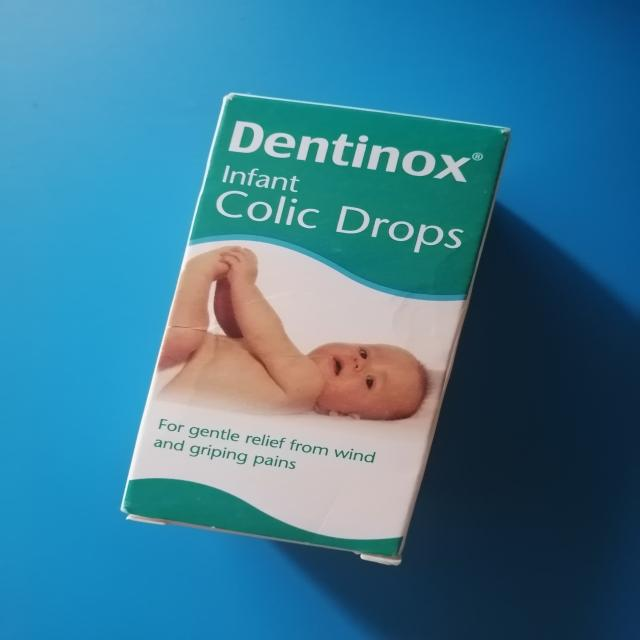Medicine: (117, 91, 516, 567)
